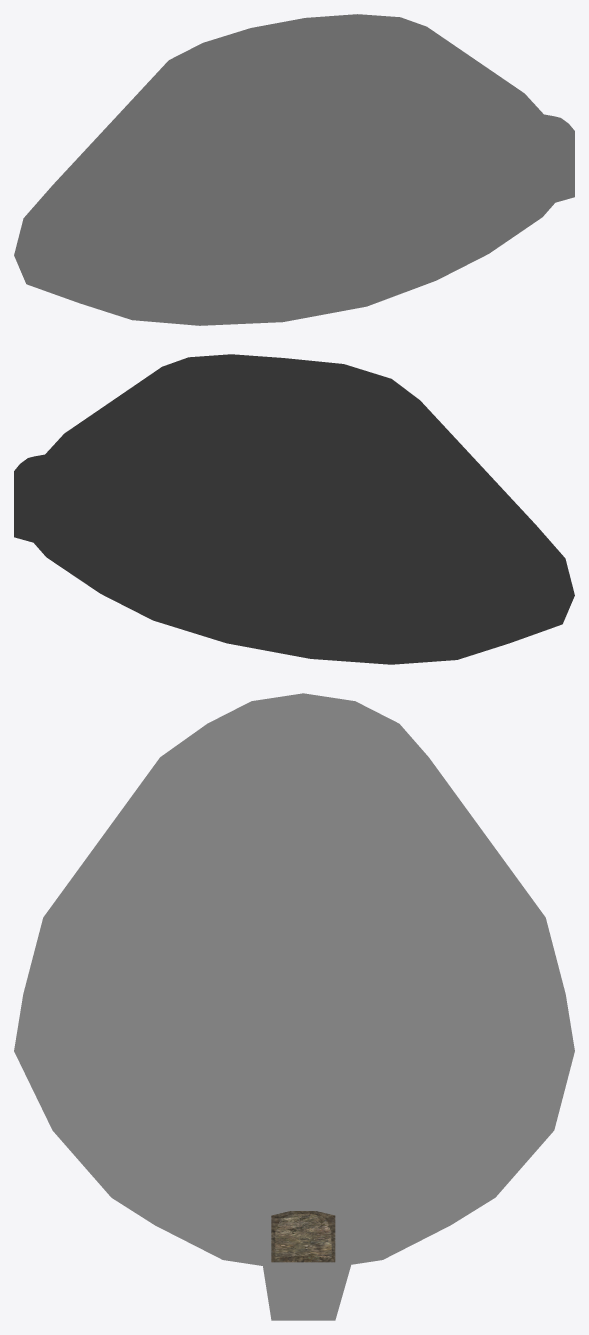
File: svgoldcave1.dae
The picture shows the model from 3 angles, top to bottom: view 1: azimuth 30°, elevation 25°; view 2: azimuth 150°, elevation 25°; view 3: azimuth 270°, elevation 25°; orthographic projection. The views are drawn at different scales.
Parts seen in each view (by area): view 1: sphere11_cut12-0; view 2: sphere11_cut12-0; view 3: sphere11_cut12-0.
Boxes of the visible parts, box(x1,y1,x2,y2) form: sphere11_cut12-0: box(14, 14, 574, 325); sphere11_cut12-0: box(14, 354, 574, 664); sphere11_cut12-0: box(14, 693, 574, 1320).
Size of the model in its own units: 23209 by 8105 by 13164.
